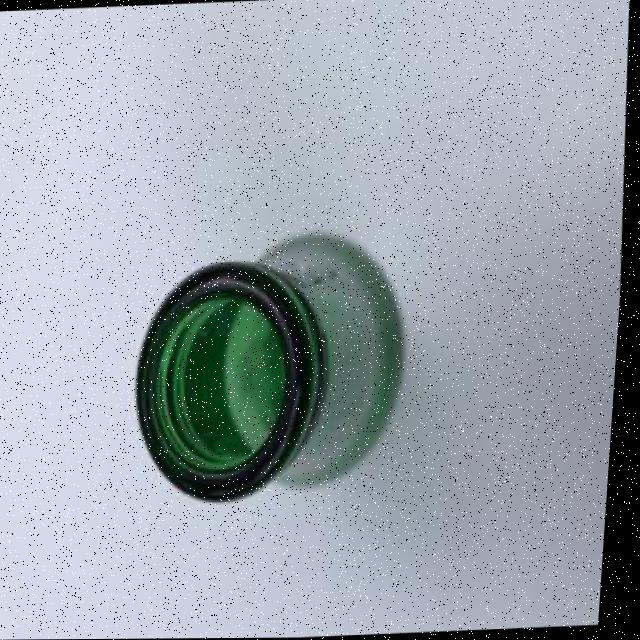glass: (125, 225, 427, 514)
